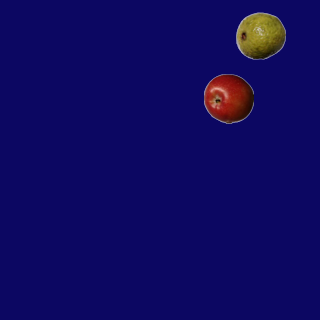Apple Braeburn: (203, 73, 253, 123)
Guava: (235, 10, 285, 60)
